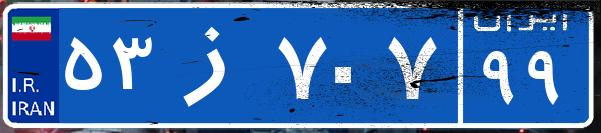0: (330, 28, 385, 110)
3: (110, 28, 158, 105)
5: (57, 26, 110, 107)
7: (385, 28, 445, 110), (273, 28, 330, 110)
9: (475, 38, 525, 113), (525, 38, 570, 115)
ز: (158, 15, 273, 115)
